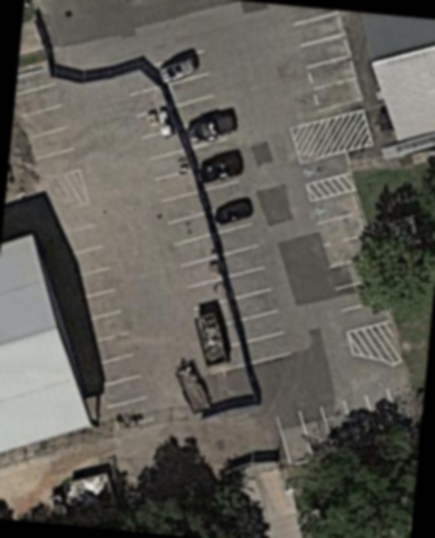parkingspot: (125, 48, 295, 368), (47, 220, 158, 434), (137, 128, 231, 313), (307, 189, 393, 336), (272, 386, 404, 468), (285, 5, 365, 118), (14, 80, 83, 183), (296, 150, 353, 188), (164, 87, 167, 91)
